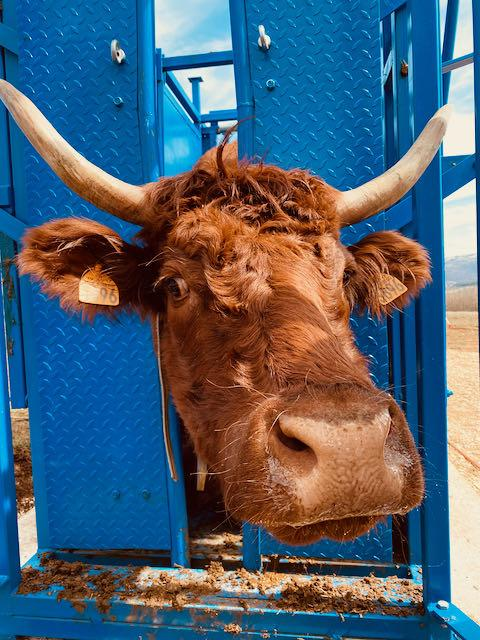muzzles: (233, 398, 426, 538)
